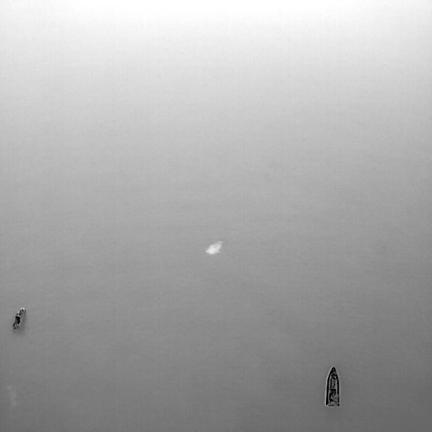flukeprints: (206, 241, 222, 254)
